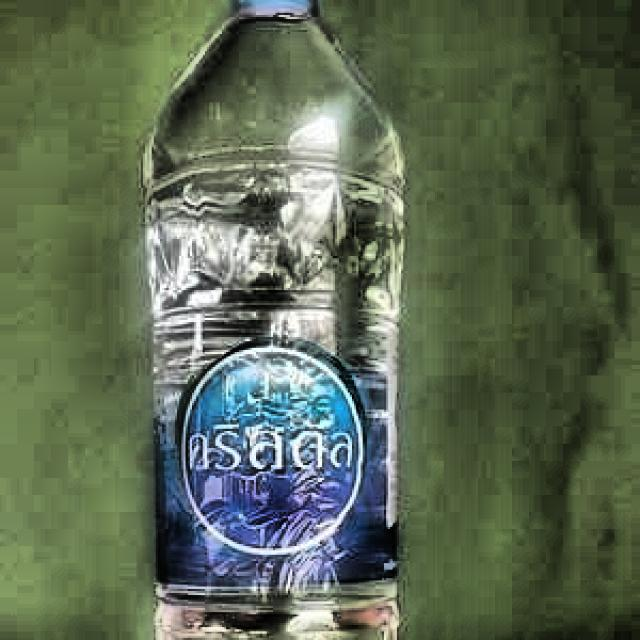Bottles: (127, 0, 442, 640)
